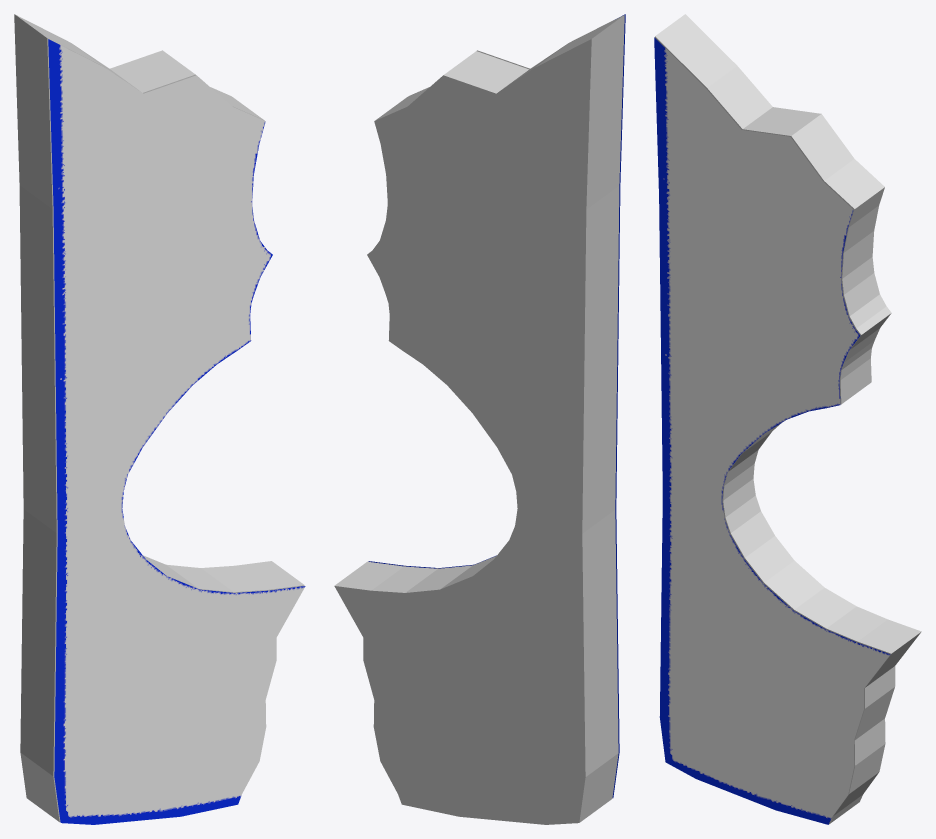
The picture shows the model from 3 angles, left to right: view 1: azimuth 30°, elevation 25°; view 2: azimuth 150°, elevation 25°; view 3: azimuth 330°, elevation 25°; orthographic projection. The views are drawn at different scales.
Visible parts, largest first — view 1: Out_1_1, Out_1_0; view 2: Out_1_0, Out_1_1; view 3: Out_1_1, Out_1_0.
Part boxes in pixels (bbox=[...]): Out_1_1: bbox=[48, 39, 305, 824]; Out_1_0: bbox=[14, 14, 304, 822]; Out_1_0: bbox=[334, 15, 624, 824]; Out_1_1: bbox=[368, 14, 625, 797]; Out_1_1: bbox=[654, 37, 890, 824]; Out_1_0: bbox=[655, 14, 921, 824].
Bounding box in the file's own units: 2.25 × 6.78 × 0.515.
2 materials, 1 textured.
